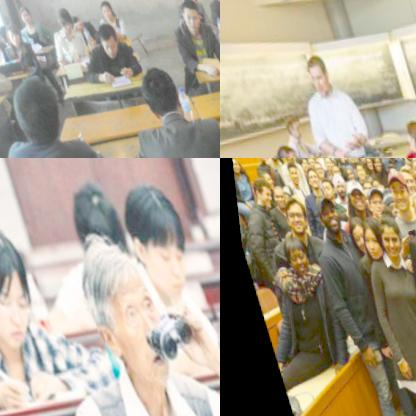head: (67, 229, 183, 393), (111, 167, 198, 304), (59, 169, 134, 276), (0, 217, 45, 360), (0, 71, 61, 148), (126, 58, 179, 119), (367, 209, 402, 257), (297, 51, 330, 96), (353, 215, 386, 259), (275, 234, 307, 275), (380, 169, 411, 211), (88, 22, 119, 62), (309, 194, 339, 233), (276, 195, 305, 233), (341, 215, 369, 253), (394, 112, 416, 157), (339, 178, 366, 213), (47, 4, 73, 37), (172, 0, 199, 31), (263, 136, 299, 158), (275, 108, 299, 141), (359, 183, 383, 216), (246, 176, 270, 208), (377, 189, 401, 221), (393, 161, 415, 190), (325, 171, 344, 197), (251, 166, 271, 190), (264, 183, 283, 208), (280, 161, 298, 186), (405, 189, 416, 229), (313, 175, 332, 198), (0, 23, 18, 47), (300, 165, 317, 190), (92, 0, 110, 22), (11, 5, 28, 24), (308, 160, 323, 180), (63, 14, 80, 31), (338, 162, 352, 180), (404, 158, 416, 178), (324, 163, 338, 179), (351, 160, 363, 178), (366, 158, 380, 170), (229, 158, 238, 175), (302, 158, 315, 169), (294, 158, 306, 169), (176, 0, 194, 7), (319, 158, 329, 170), (358, 158, 370, 168), (249, 158, 265, 162), (0, 24, 3, 42), (353, 158, 363, 162)
